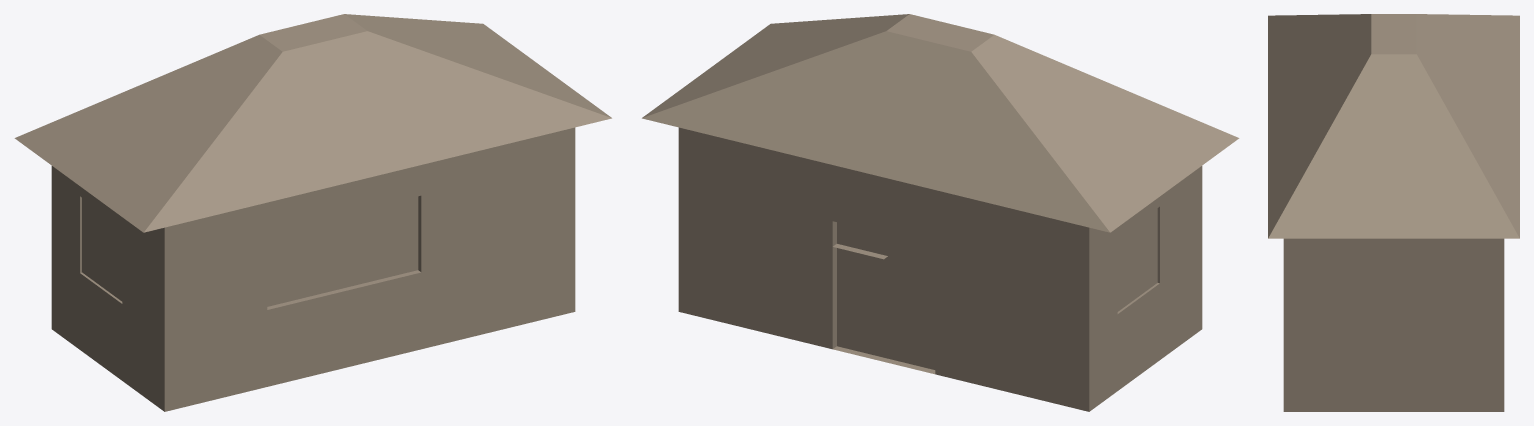
Rendered from big_house.fbx.
3 views of the same model, side by side, from view 1: azimuth 30°, elevation 25°; view 2: azimuth 150°, elevation 25°; view 3: azimuth 270°, elevation 25° (orthographic). The views are drawn at different scales.
Visible parts, largest first — view 1: Kocka; view 2: Kocka; view 3: Kocka.
Part boxes in pixels (<box>): Kocka: <box>14,14,611,411</box>; Kocka: <box>642,14,1239,411</box>; Kocka: <box>1268,14,1519,411</box>.
Bounding box in the file's own units: 3845 × 2253 × 1834.
1 material, 1 textured.
